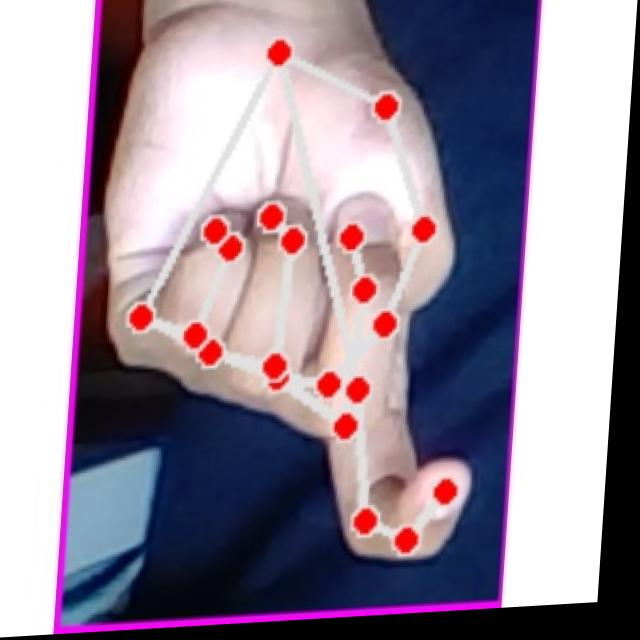Z: (86, 0, 518, 591)
